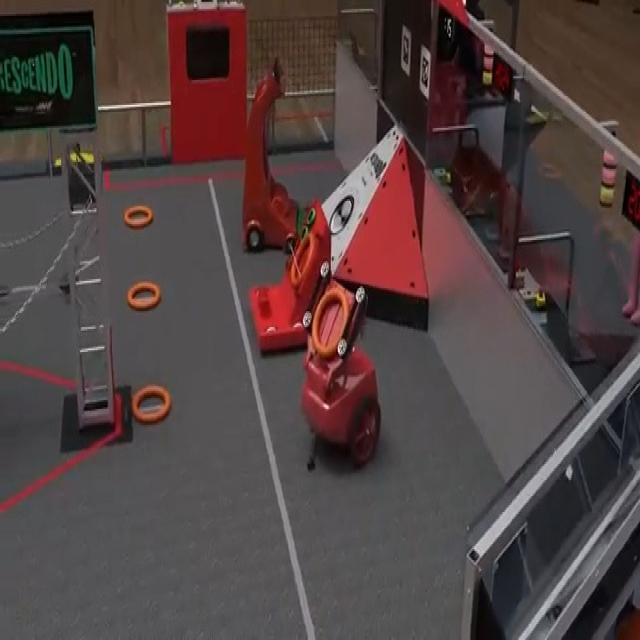notes: (130, 385, 172, 427), (126, 280, 162, 310), (123, 204, 157, 230)
